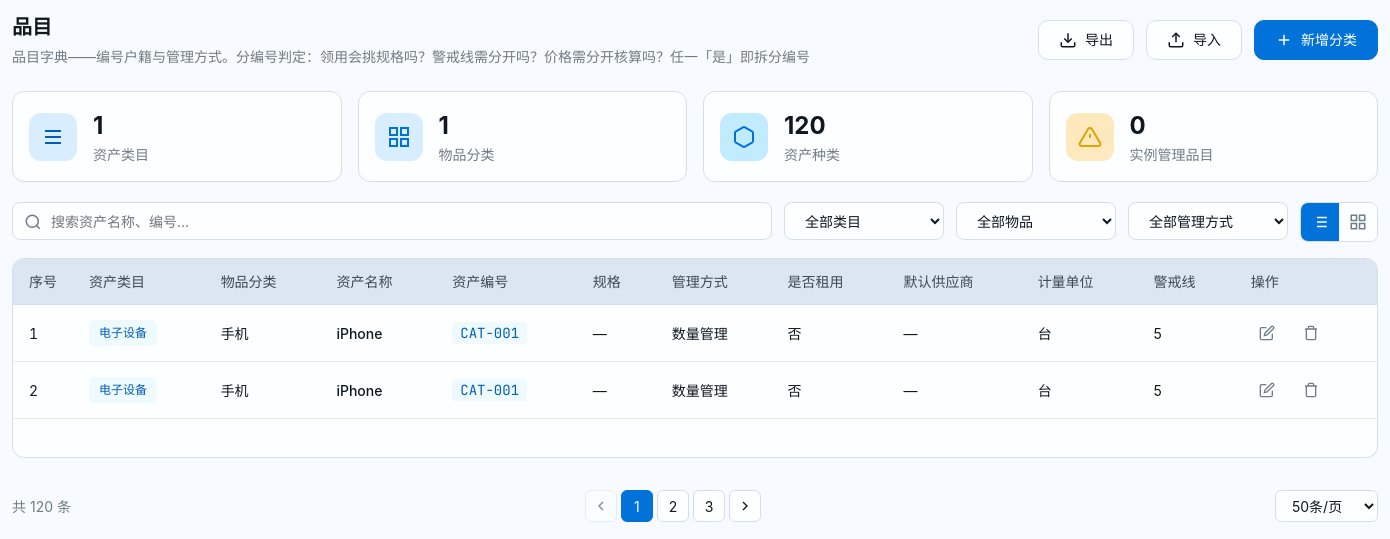
Test case: Category 品目页（筛选与序号） › 表头首列为序号，序号为分页连续序号
The width and height of the screenshot is (1390, 539).
Expected: the cell "1" is shown, [13,304,73,362]
Click the button "2" at (673, 506), box [657,490,689,522]
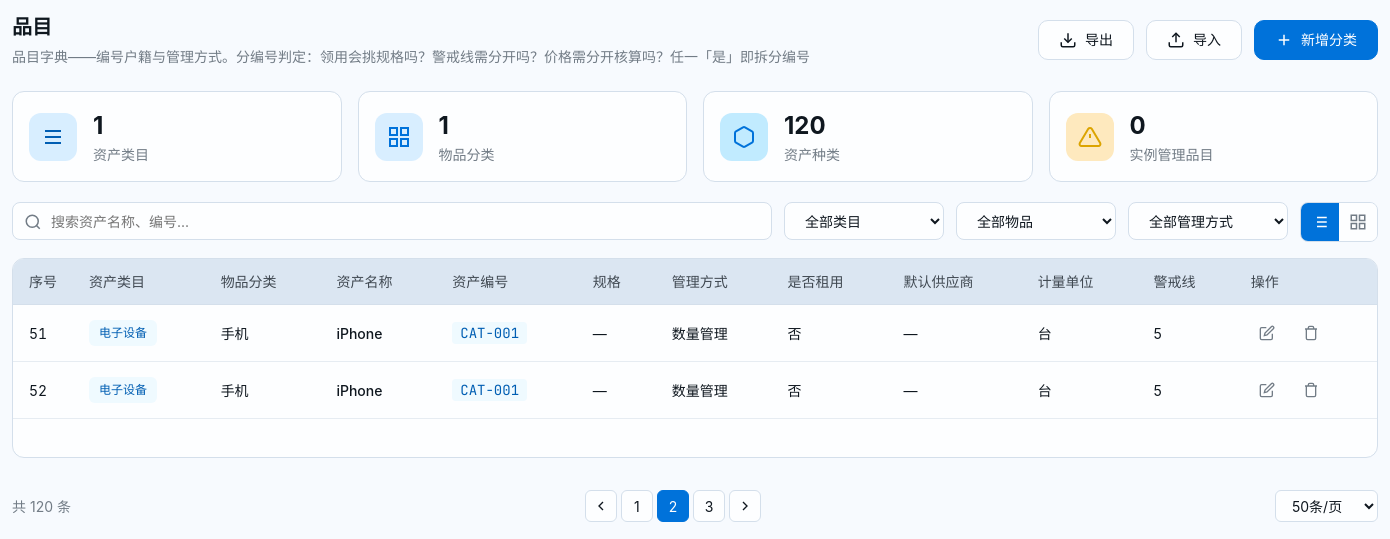
Now the cell "51" is shown, box [13,304,73,362]
